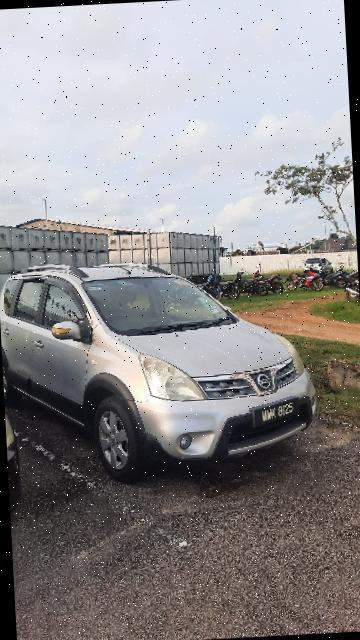License_Plate: (248, 393, 305, 429)
car: (5, 241, 325, 495)
